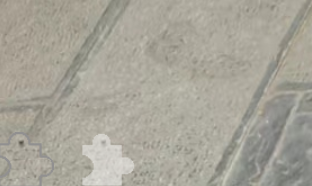target: (78, 134, 139, 186)
